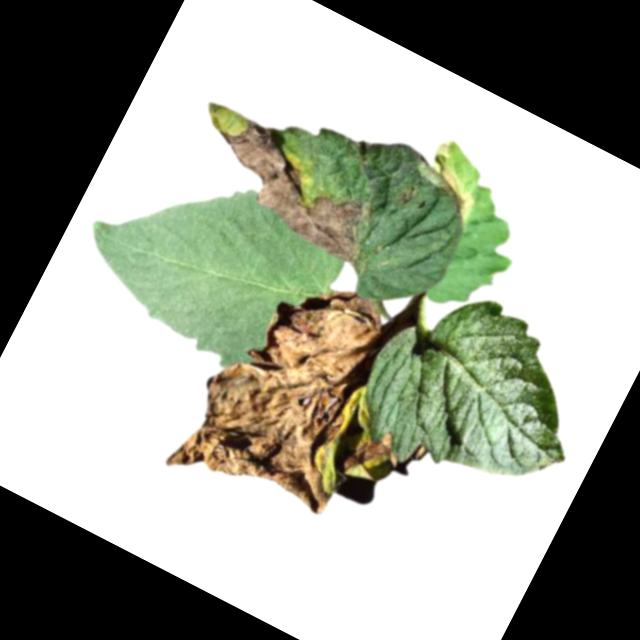Late_blight: (163, 250, 420, 541), (193, 106, 391, 266), (404, 131, 495, 221), (338, 418, 403, 488)
